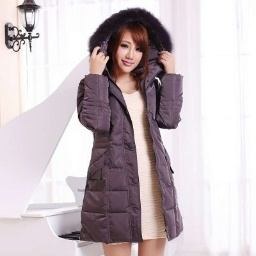face: (99, 16, 153, 92)
